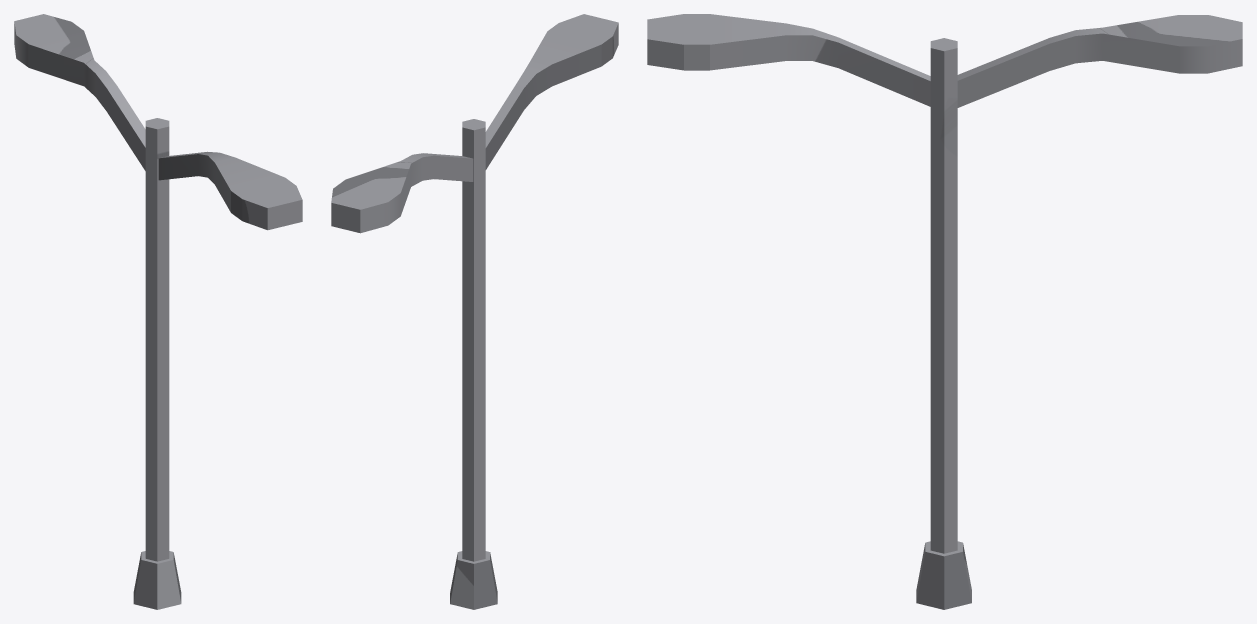
File: DuoLightPost.fbx
The picture shows the model from 3 angles, left to right: view 1: azimuth 30°, elevation 25°; view 2: azimuth 150°, elevation 25°; view 3: azimuth 270°, elevation 25°; orthographic projection. The views are drawn at different scales.
Visible parts, largest first — view 1: Cone002; view 2: Cone002; view 3: Cone002.
Part boxes in pixels (<box>): Cone002: <box>14,14,302,609</box>; Cone002: <box>331,14,618,609</box>; Cone002: <box>647,14,1242,609</box>.
Size of the model in its own units: 2.85 by 24.01 by 22.84.
